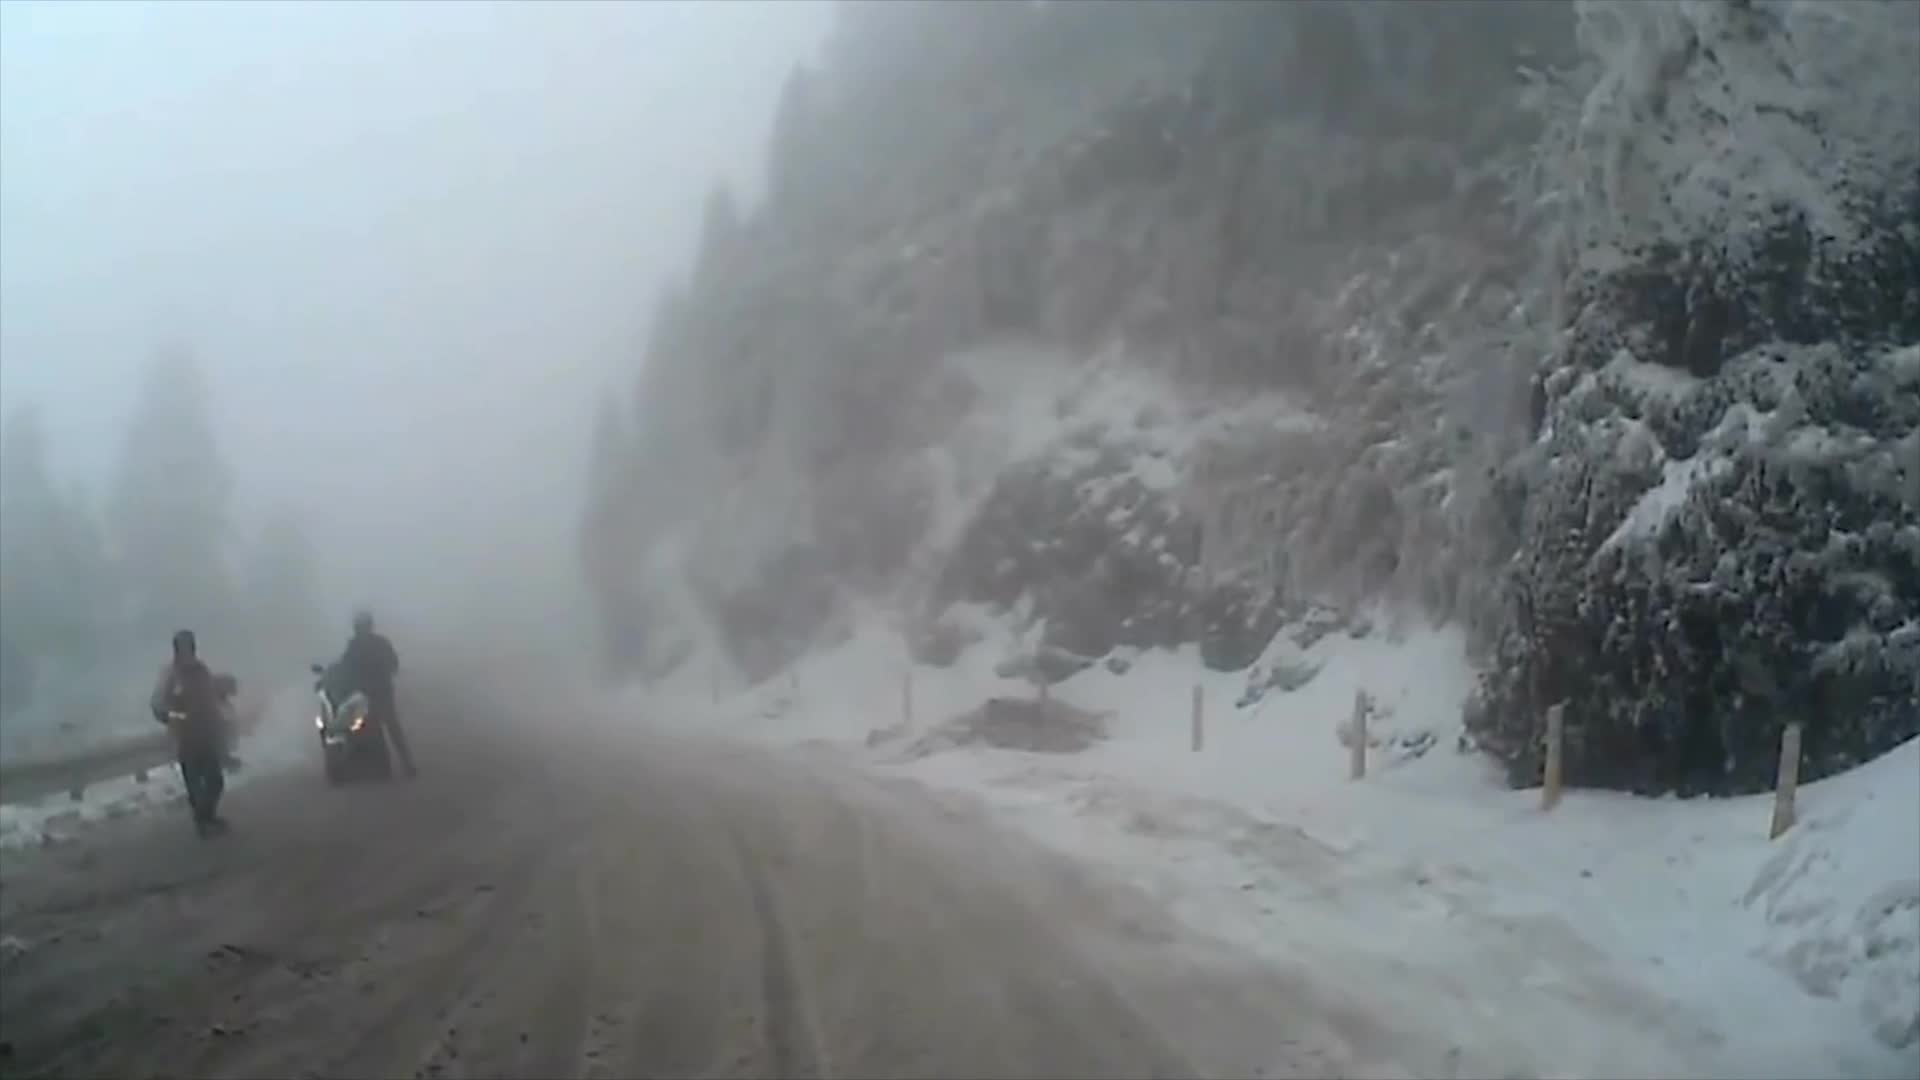pedestrian: (158, 633, 250, 842), (333, 610, 425, 793)
